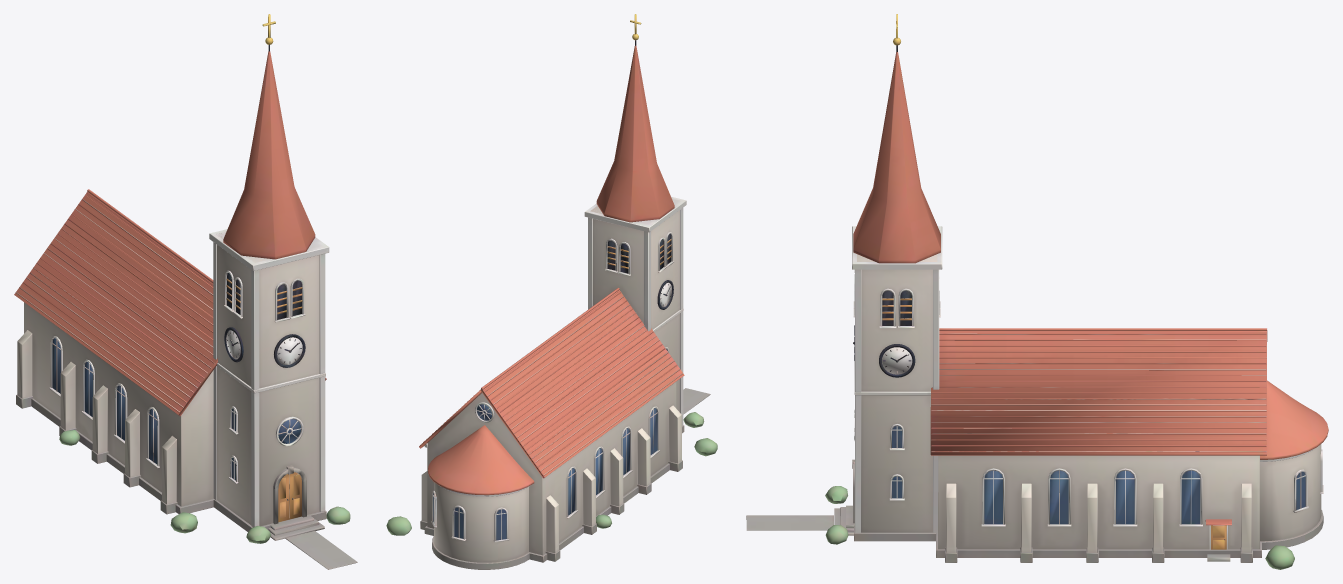
The model's file is church.glb.
3 renders of one model, left to right at view 1: azimuth 30°, elevation 25°; view 2: azimuth 150°, elevation 25°; view 3: azimuth 270°, elevation 25°, orthographic. The views are drawn at different scales.
Parts seen in each view (by area): view 1: church_body; view 2: church_body; view 3: church_body.
Boxes of the visible parts, x1,y1,x2,y2 form: church_body: [14, 14, 357, 569]; church_body: [386, 14, 717, 569]; church_body: [746, 14, 1328, 569].
Size of the model in its own units: 16.13 by 38.4 by 39.79.
1 material, 1 textured.
